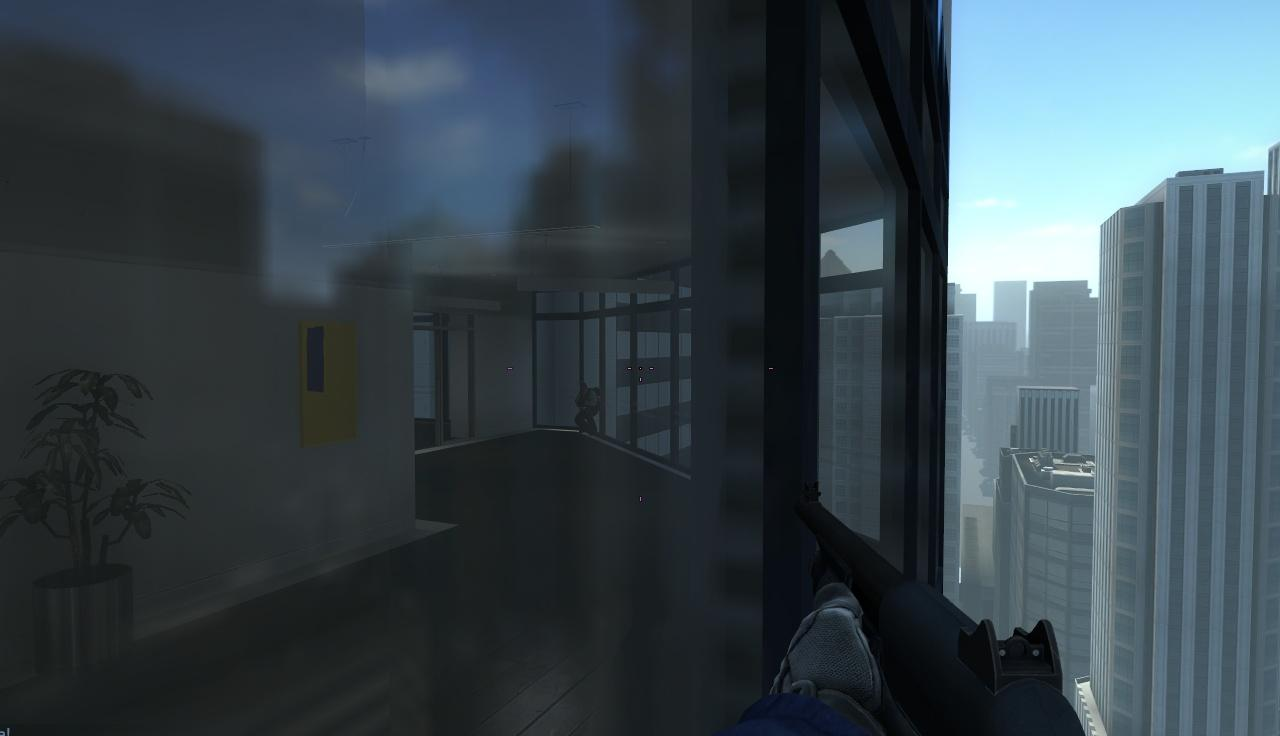shotgun: (780, 480, 1087, 736)
tt: (574, 383, 601, 435)
tthead: (579, 383, 587, 393)
